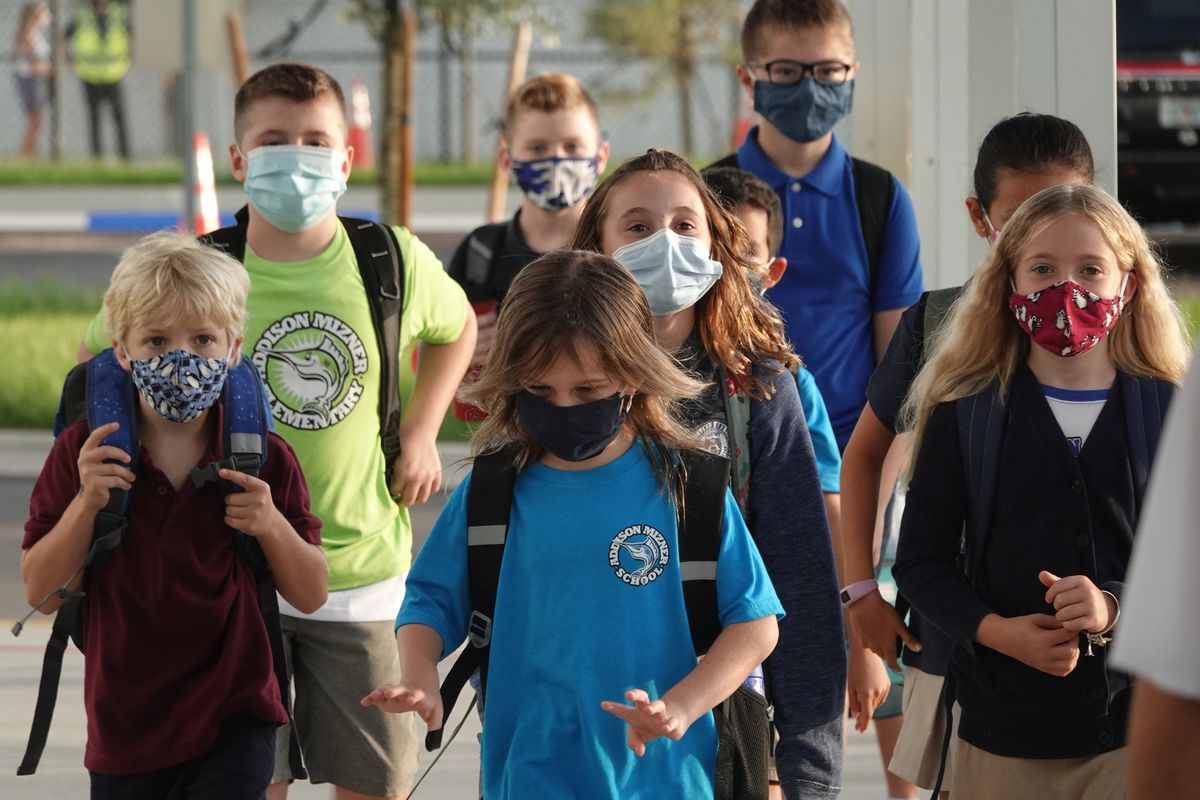without_mask: (1022, 235, 1114, 326), (619, 184, 701, 269), (514, 115, 595, 196), (765, 37, 844, 115), (251, 106, 332, 180), (144, 312, 216, 392), (539, 346, 601, 429)
